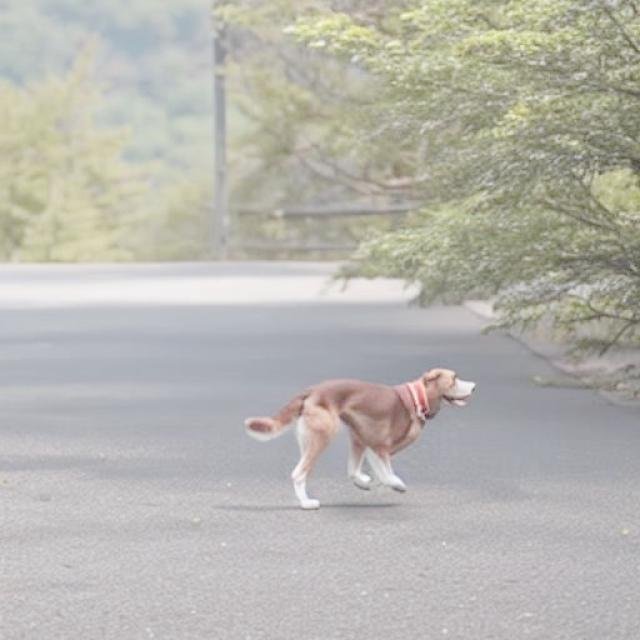Dog: (243, 366, 478, 510)
